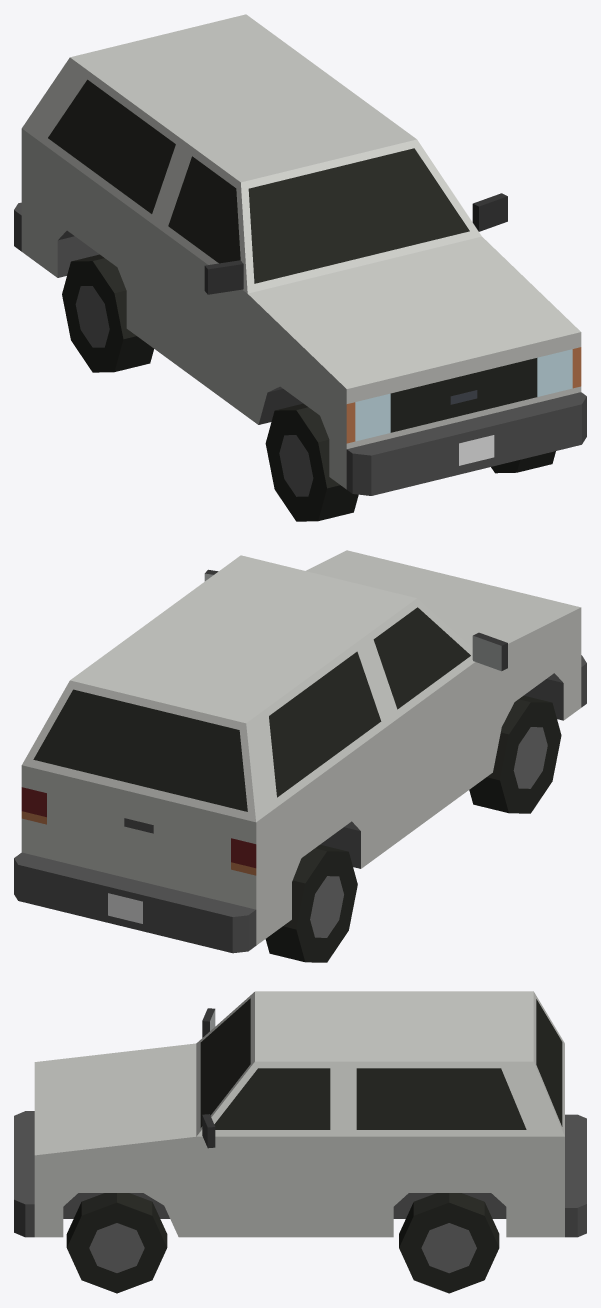
File: Veh_SUV_02_White.glb
The picture shows the model from 3 angles, top to bottom: view 1: azimuth 30°, elevation 25°; view 2: azimuth 150°, elevation 25°; view 3: azimuth 270°, elevation 25°; orthographic projection. The views are drawn at different scales.
Visible parts, largest first — view 1: SUV_02_White, Wheel_RR, Wheel_FR, Wheel_FL; view 2: SUV_02_White, Wheel_RR, Wheel_FR; view 3: SUV_02_White, Wheel_FL, Wheel_RL.
Part boxes in pixels (<box>): SUV_02_White: <box>14,14,586,495</box>; Wheel_RR: <box>62,254,153,372</box>; Wheel_FR: <box>265,403,358,521</box>; Wheel_FL: <box>491,451,555,473</box>; SUV_02_White: <box>14,550,586,953</box>; Wheel_RR: <box>265,844,357,962</box>; Wheel_FR: <box>469,695,561,813</box>; SUV_02_White: <box>14,991,586,1237</box>; Wheel_FL: <box>66,1193,167,1293</box>; Wheel_RL: <box>399,1193,499,1293</box>.
Size of the model in its own units: 1.27 by 1.1 by 2.58.
1 material, 1 textured.
